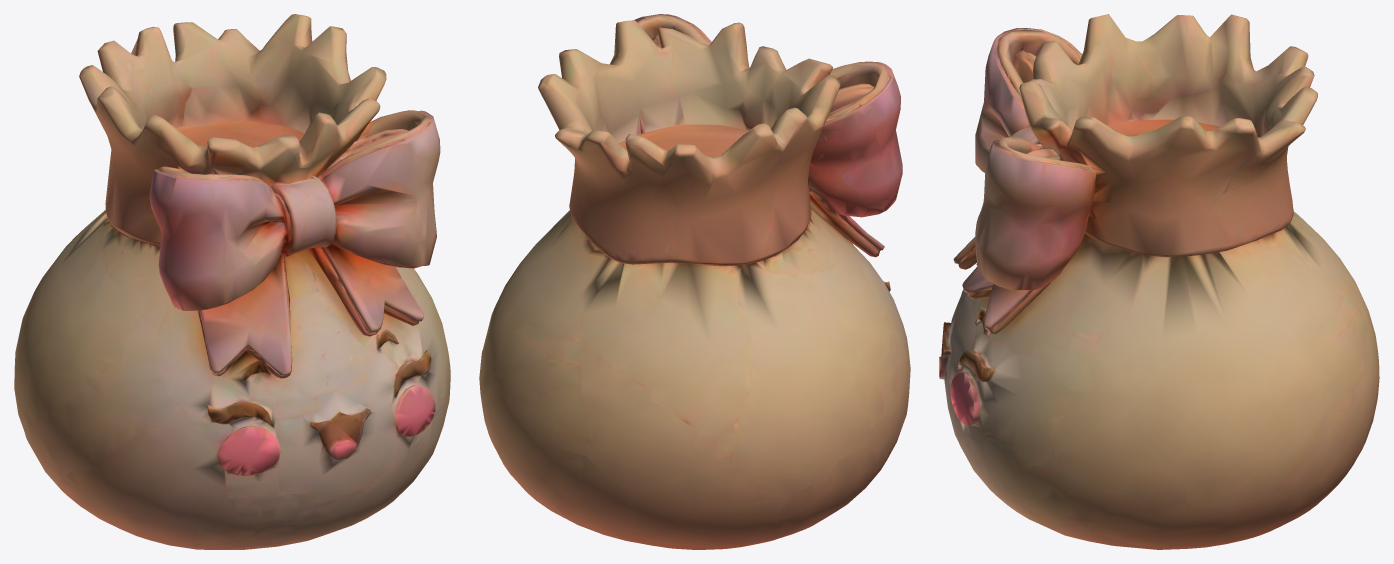
The model's file is bag.glb.
The picture shows the model from 3 angles, left to right: view 1: azimuth 30°, elevation 25°; view 2: azimuth 150°, elevation 25°; view 3: azimuth 270°, elevation 25°; orthographic projection.
Parts seen in each view (by area): view 1: texture_pbr_v128; view 2: texture_pbr_v128; view 3: texture_pbr_v128.
Part boxes in pixels (x1,y1,x2,y2): texture_pbr_v128: [14, 14, 450, 549]; texture_pbr_v128: [479, 14, 910, 549]; texture_pbr_v128: [939, 14, 1379, 549].
Size of the model in its own units: 0.8722 by 0.9843 by 0.8862.
Materials: 1 (1 with a texture image).
